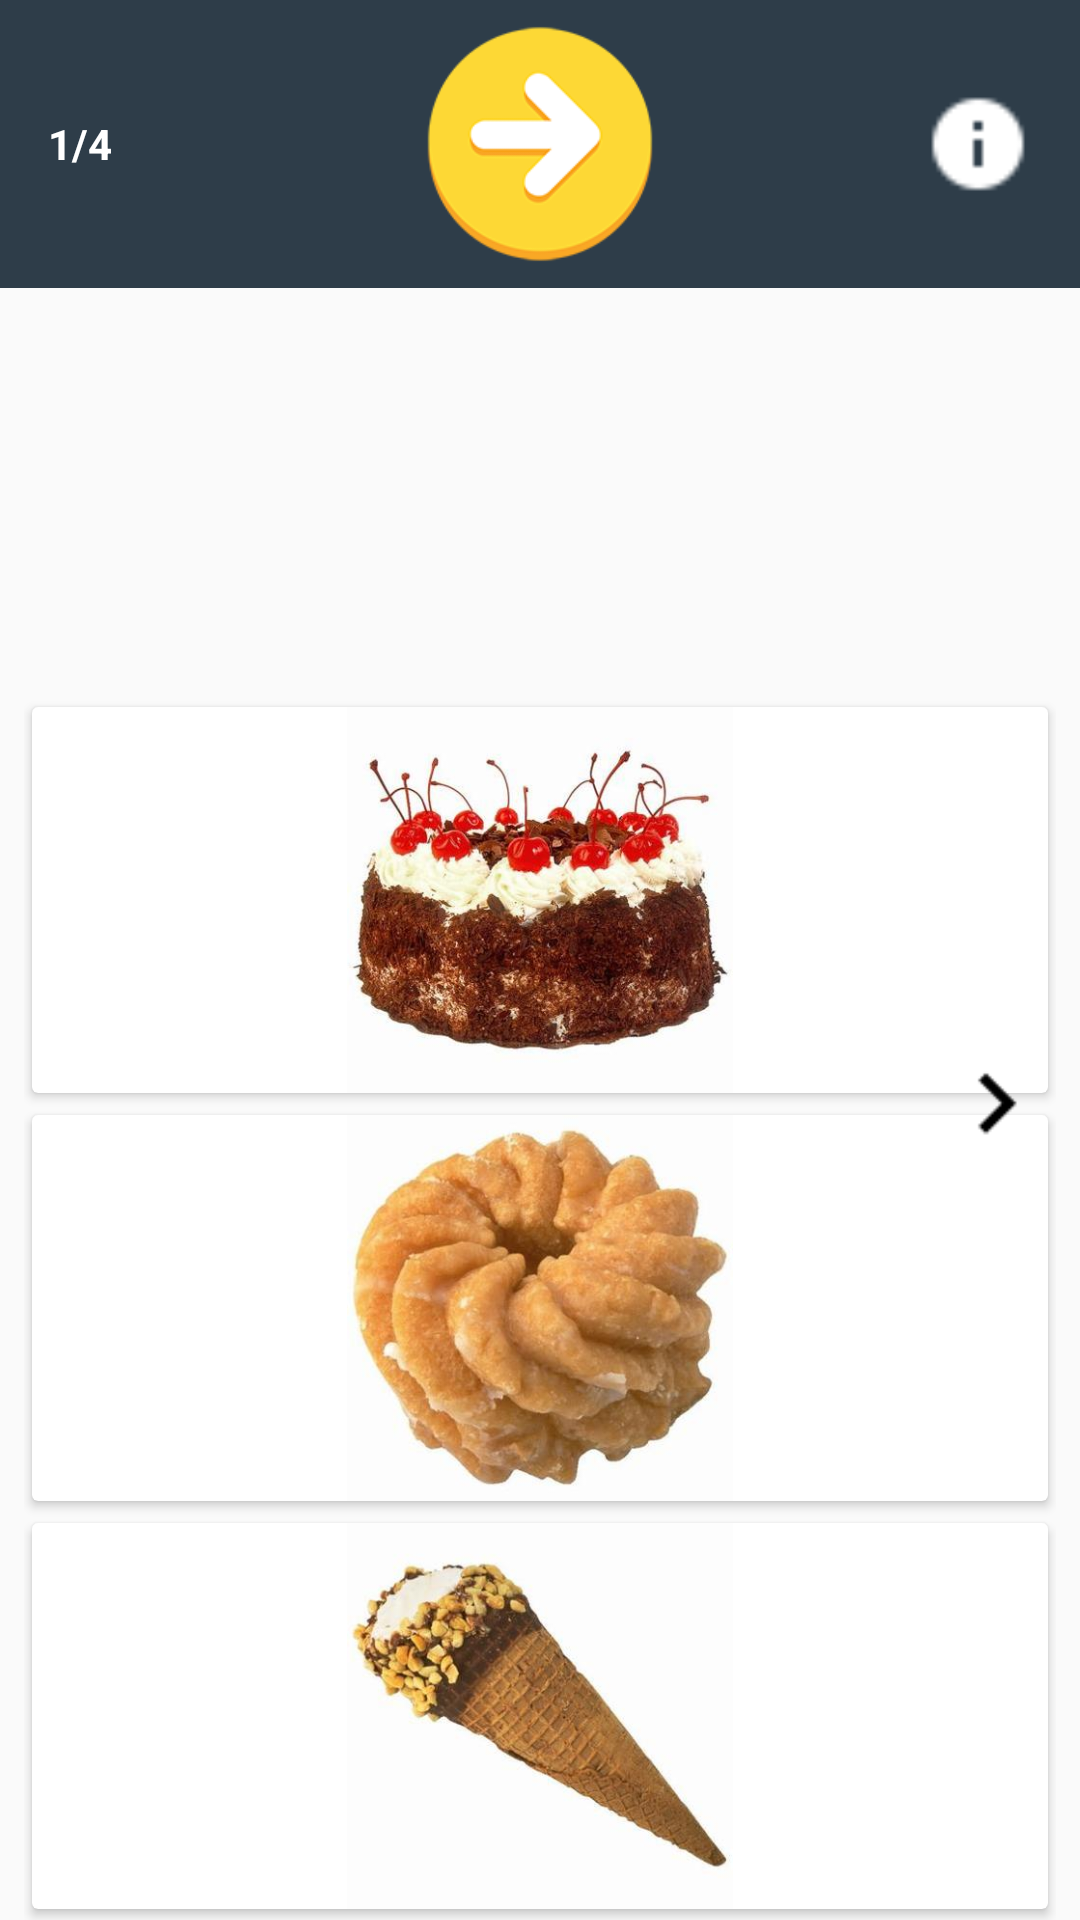

Where to tap for icons on this 1080px×1920px app screen, as point (x, y):
info: point (978, 144)
next: point (540, 144)
